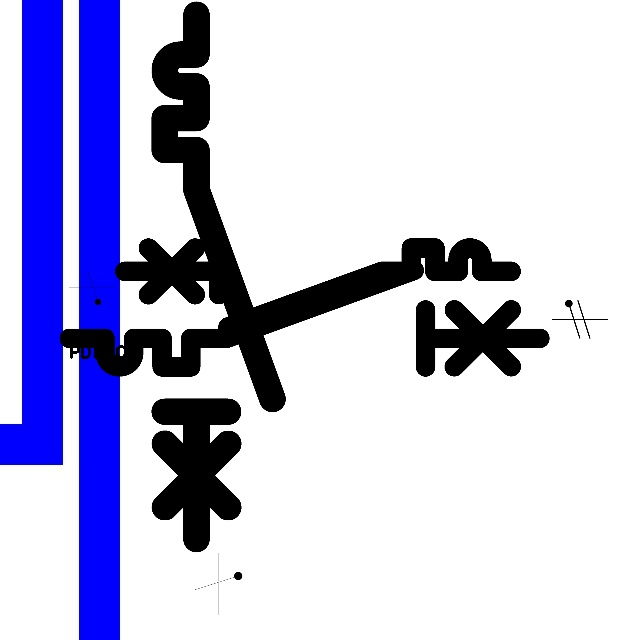interruptor_termomagnetico: (151, 1, 286, 552), (57, 258, 552, 379), (114, 238, 520, 337)
